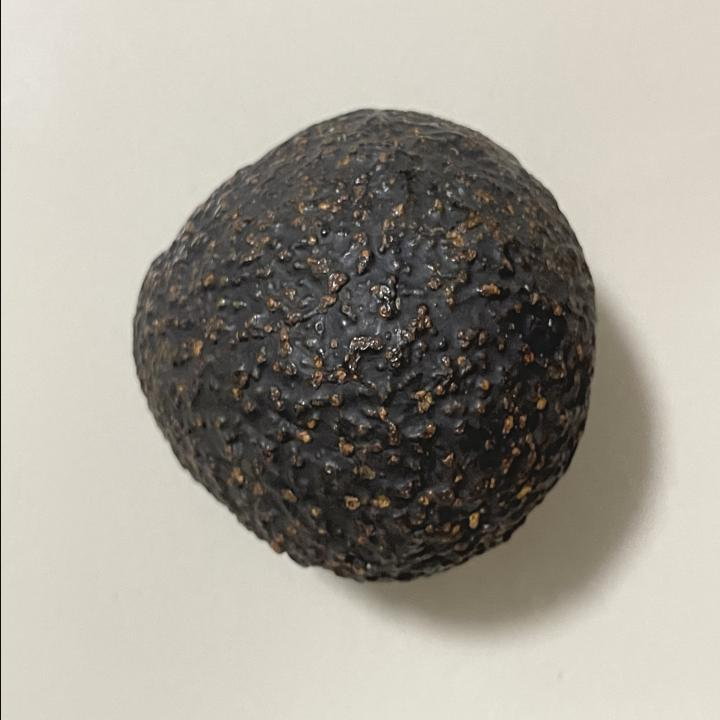Level3: (122, 100, 600, 592)
